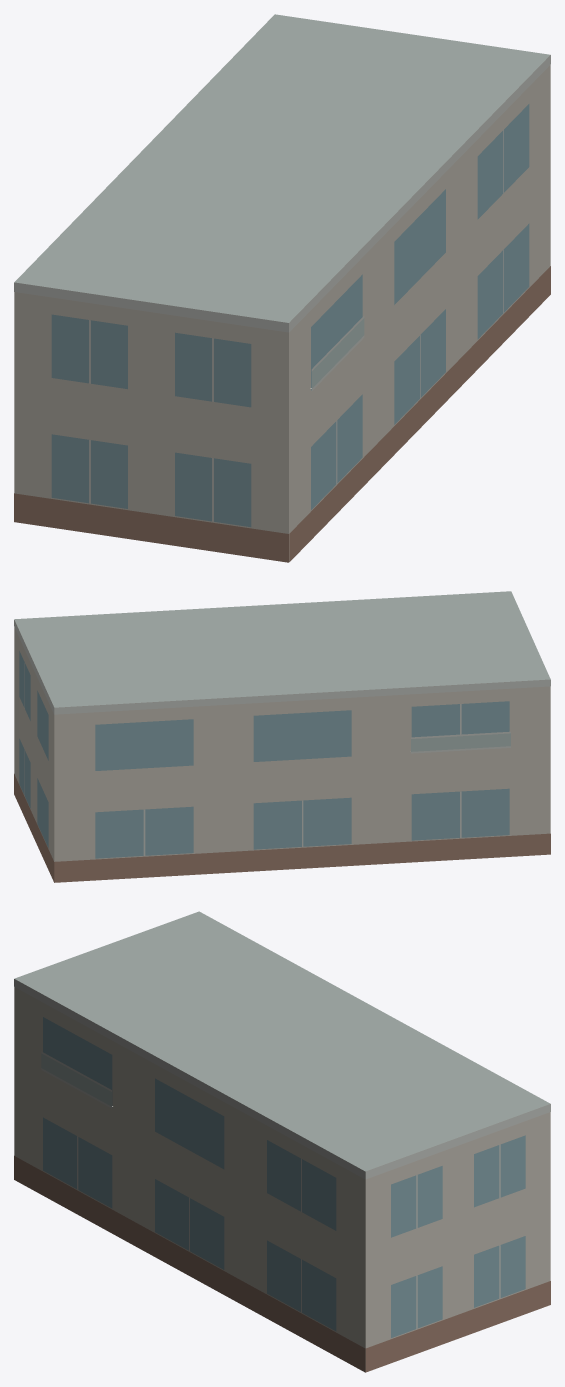
Rendered from survey-upis-32774238.glb.
3 views of the same model, one above another, from view 1: azimuth 30°, elevation 25°; view 2: azimuth 150°, elevation 25°; view 3: azimuth 270°, elevation 25° (orthographic). The views are drawn at different scales.
Visible parts, largest first — view 1: survey-upis-32774238.tmp; view 2: survey-upis-32774238.tmp; view 3: survey-upis-32774238.tmp.
Boxes of the visible parts, x1=… form: survey-upis-32774238.tmp: x1=14, y1=14, x2=550, y2=562; survey-upis-32774238.tmp: x1=14, y1=591, x2=550, y2=882; survey-upis-32774238.tmp: x1=14, y1=911, x2=550, y2=1372.
Bounding box in the file's own units: 16.94 × 6.1 × 14.77.
